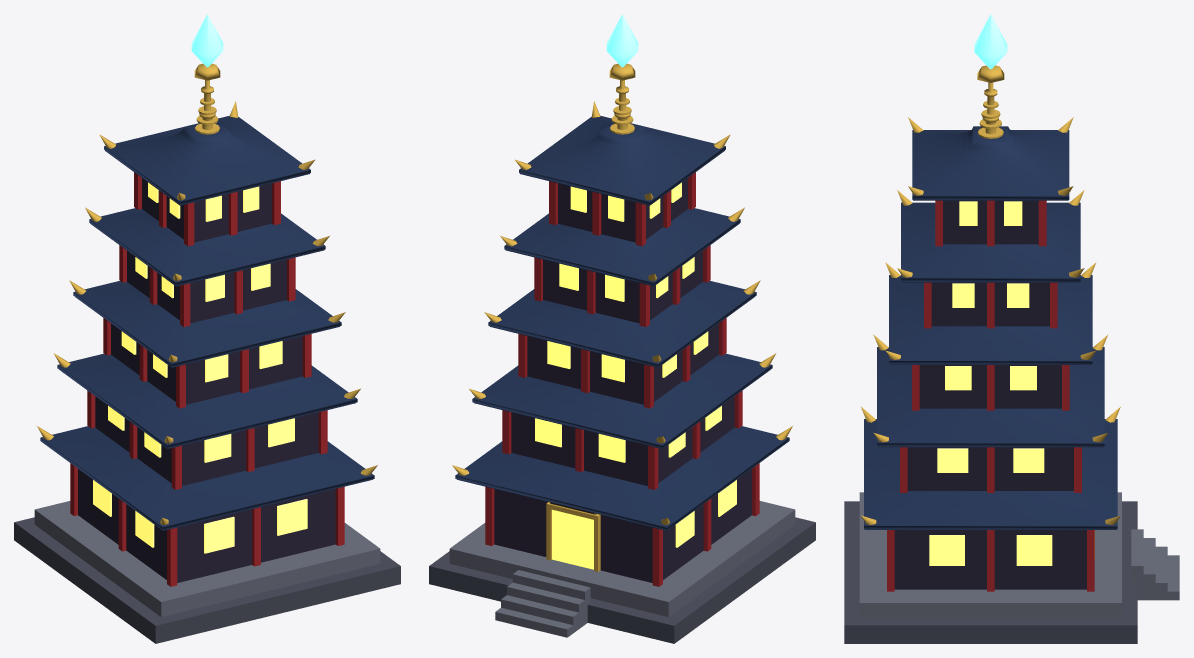
The model's file is tower_v3.glb.
3 renders of one model, left to right at view 1: azimuth 30°, elevation 25°; view 2: azimuth 150°, elevation 25°; view 3: azimuth 270°, elevation 25°, orthographic. The views are drawn at different scales.
Visible parts, largest first — view 1: Roof_24365A, Wall_2E2840, Stone_6B6F7E, StoneDark_4A4D5C, Pillar_B3262E, Window_FFC86B, Gold_E6B84A, Crystal_8FF3FF; view 2: Roof_24365A, Wall_2E2840, Stone_6B6F7E, Pillar_B3262E, Window_FFC86B, StoneDark_4A4D5C, Gold_E6B84A, Crystal_8FF3FF; view 3: Roof_24365A, Wall_2E2840, Stone_6B6F7E, StoneDark_4A4D5C, Window_FFC86B, Pillar_B3262E, Gold_E6B84A, Crystal_8FF3FF.
Boxes of the visible parts, x1,y1,x2,y2 form: Roof_24365A: (40,115,374,530); Wall_2E2840: (78,178,335,582); Stone_6B6F7E: (34,501,380,616); StoneDark_4A4D5C: (14,517,400,643); Pillar_B3262E: (70,172,344,586); Window_FFC86B: (93,182,307,553); Gold_E6B84A: (37,63,377,524); Crystal_8FF3FF: (191,14,223,67); Roof_24365A: (455,115,789,530); Wall_2E2840: (494,178,751,582); Stone_6B6F7E: (449,501,795,637); Pillar_B3262E: (485,172,759,586); Window_FFC86B: (535,182,736,569); StoneDark_4A4D5C: (429,517,815,643); Gold_E6B84A: (452,63,792,571); Crystal_8FF3FF: (606,14,638,67); Roof_24365A: (864,126,1117,529); Wall_2E2840: (894,200,1086,589); Stone_6B6F7E: (859,492,1179,618); StoneDark_4A4D5C: (844,501,1137,643); Window_FFC86B: (929,201,1052,565); Pillar_B3262E: (887,200,1094,591); Gold_E6B84A: (861,65,1120,560); Crystal_8FF3FF: (974,14,1007,69).
Size of the model in its own units: 60.71 by 130 by 69.46.
